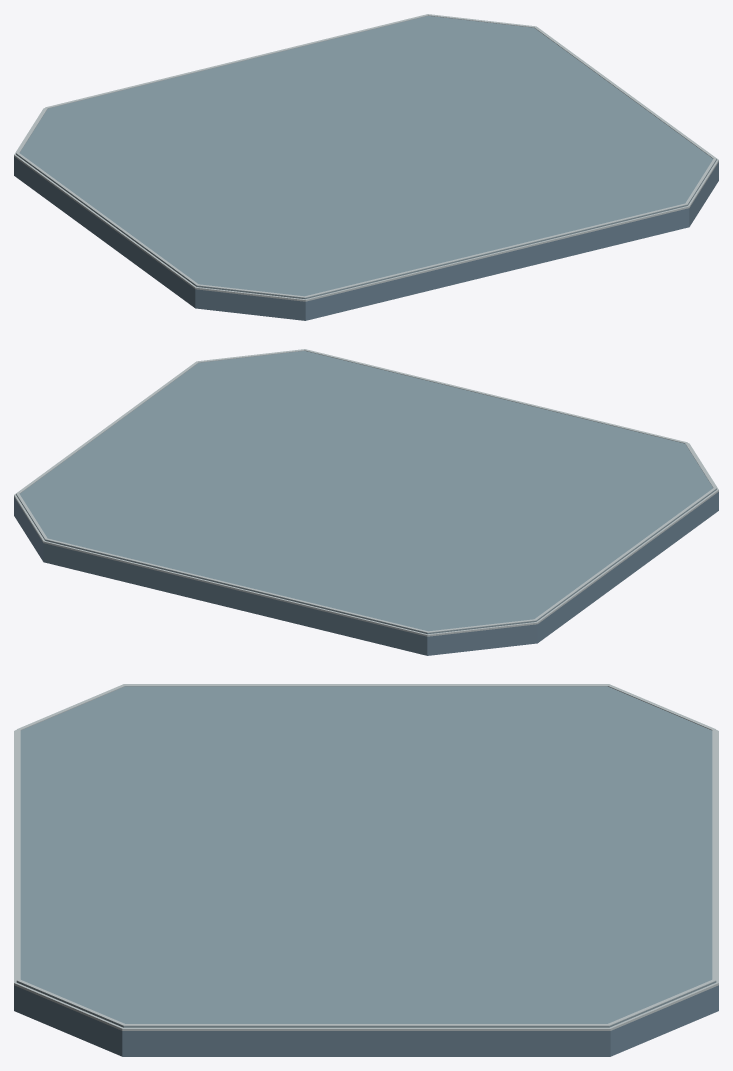
The model's file is campus_platform_v01.glb.
The picture shows the model from 3 angles, top to bottom: view 1: azimuth 30°, elevation 25°; view 2: azimuth 150°, elevation 25°; view 3: azimuth 270°, elevation 25°; orthographic projection. The views are drawn at different scales.
Parts seen in each view (by area): view 1: campus_platform; view 2: campus_platform; view 3: campus_platform.
Boxes of the visible parts, x1=… form: campus_platform: x1=14, y1=14, x2=718, y2=320; campus_platform: x1=14, y1=349, x2=718, y2=655; campus_platform: x1=14, y1=684, x2=718, y2=1056.
Size of the model in its own units: 30 by 1.23 by 26.
